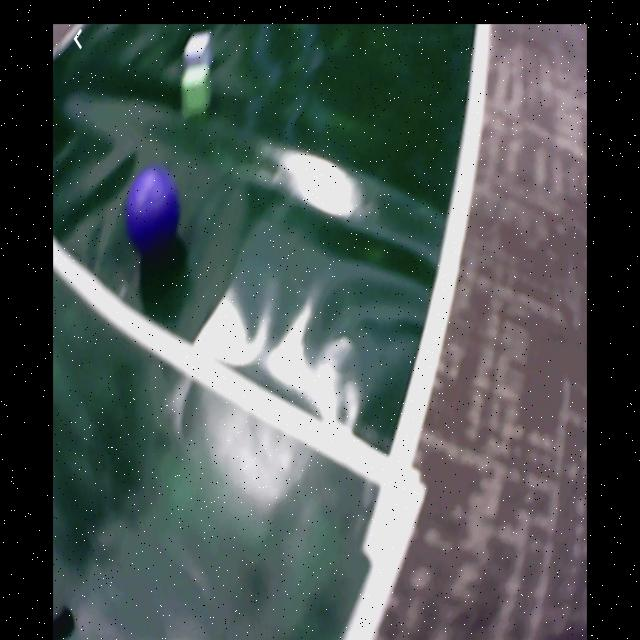ball: (128, 169, 182, 251)
